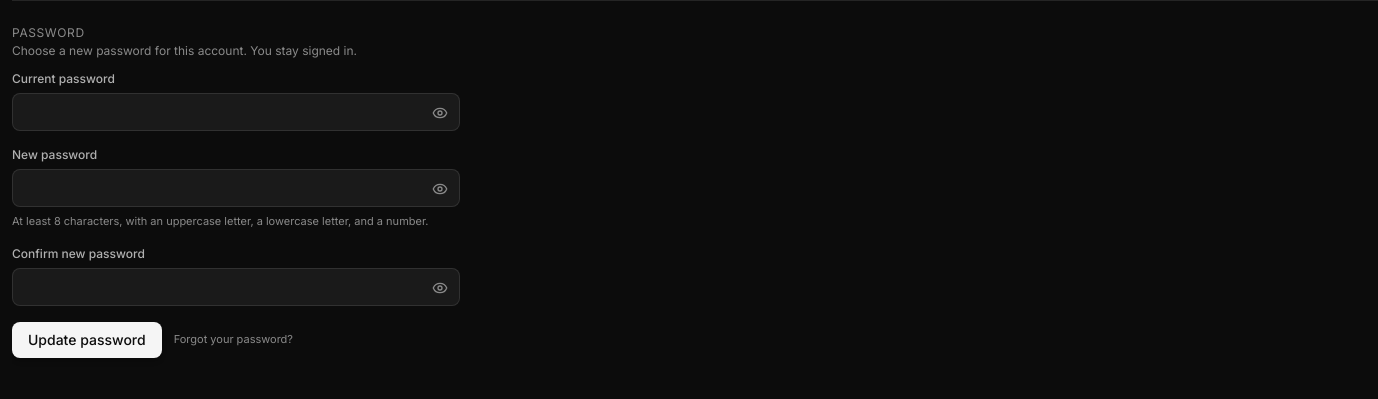
Test: password settings › shows the server error and can reveal the current password
Step 1. Type "WrongPassword1" into the password field labelled "Current password" → {"x": 236, "y": 112}, box [12,93,460,131]
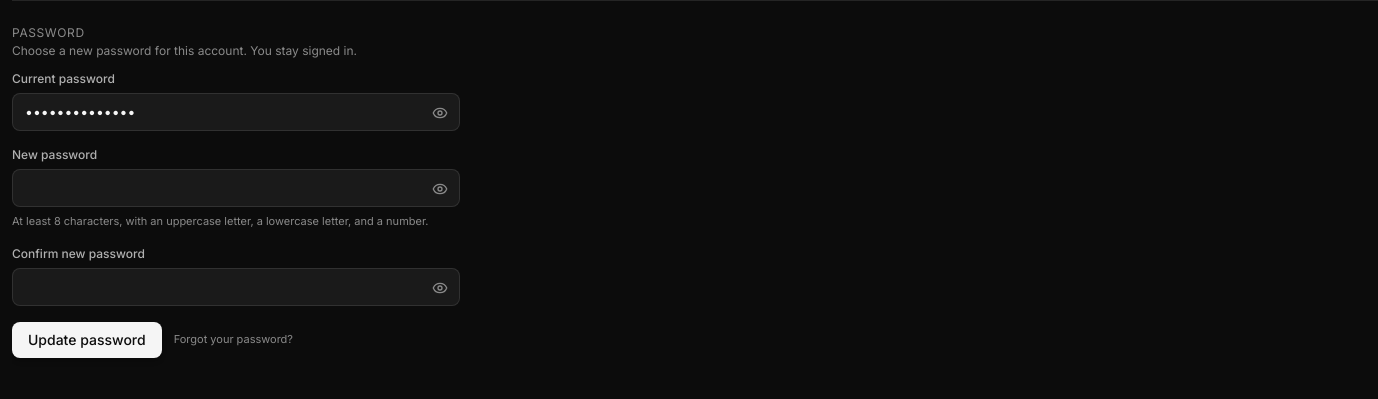
Step 2. Type "NewPassword2" into the password field labelled "New password" → {"x": 236, "y": 188}, box [12,169,460,207]
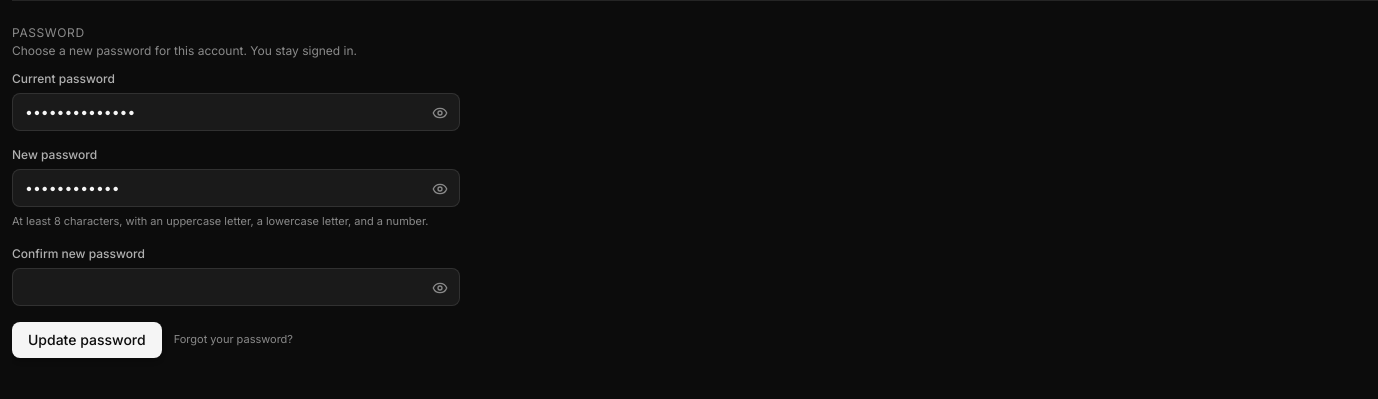
Step 3. Type "NewPassword2" into the password field labelled "Confirm new password" → {"x": 236, "y": 286}, box [12,268,460,306]
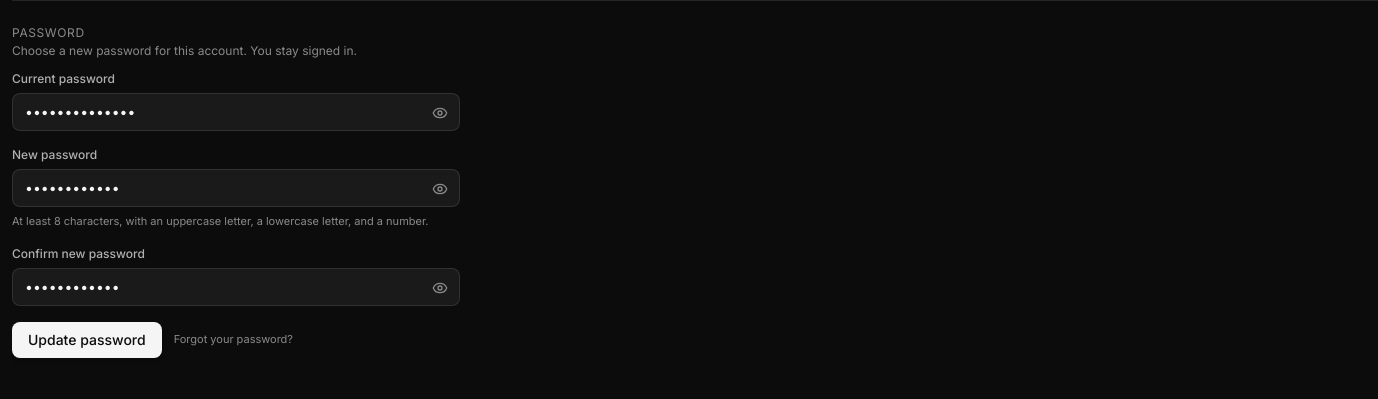
Step 4. Click the button named "Show current password" → {"x": 440, "y": 113}, box [424,97,456,129]
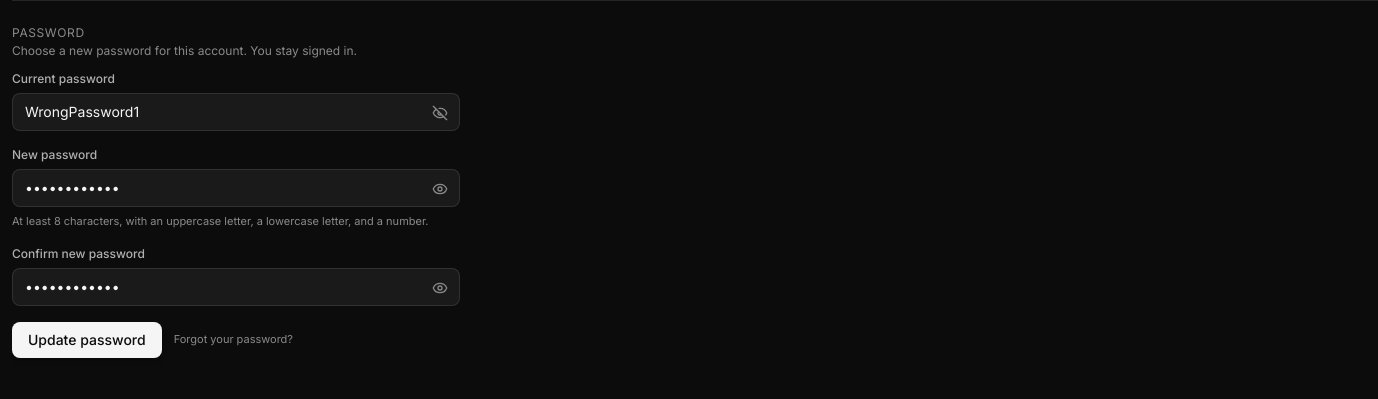
Now the field labelled "Current password" shows its text, box [12,93,460,131]
Step 5. Click the button "Update password" → {"x": 87, "y": 340}, box [12,322,162,358]
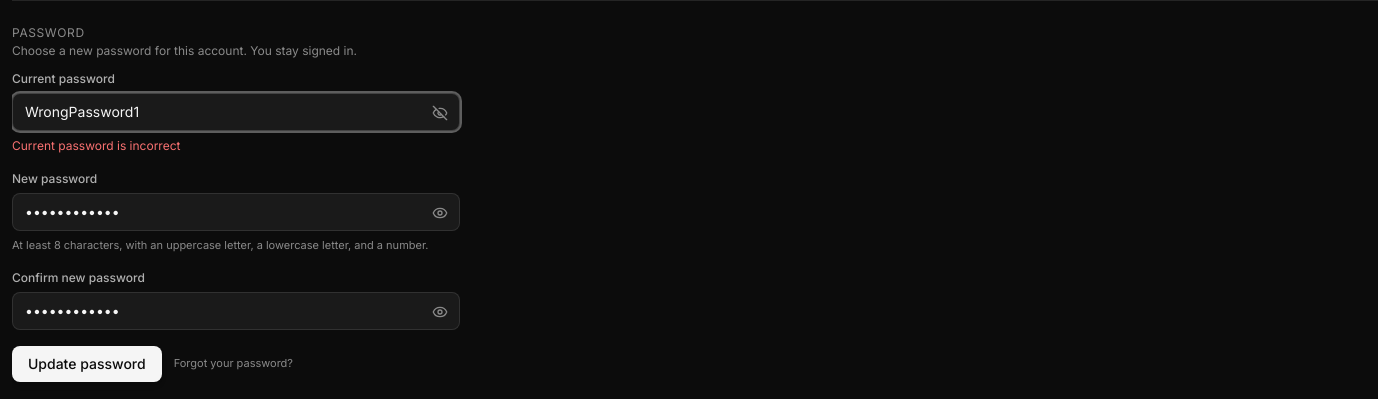
Now the message reads "Current password is incorrect", box [12,138,180,153]
